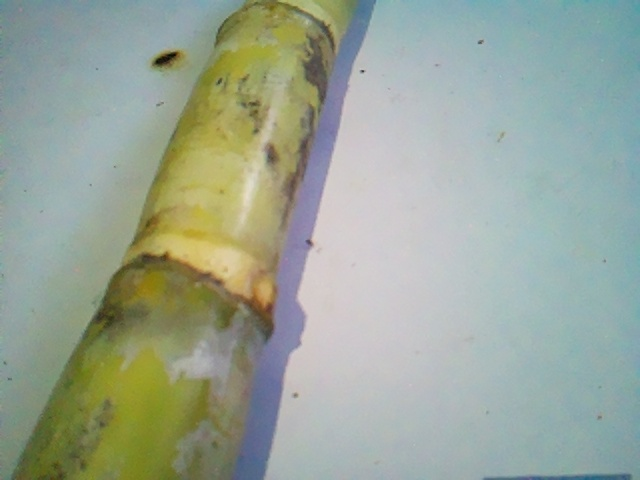Good Sugarcane: (12, 0, 362, 480)
Node: (95, 212, 285, 342), (211, 4, 341, 56)
